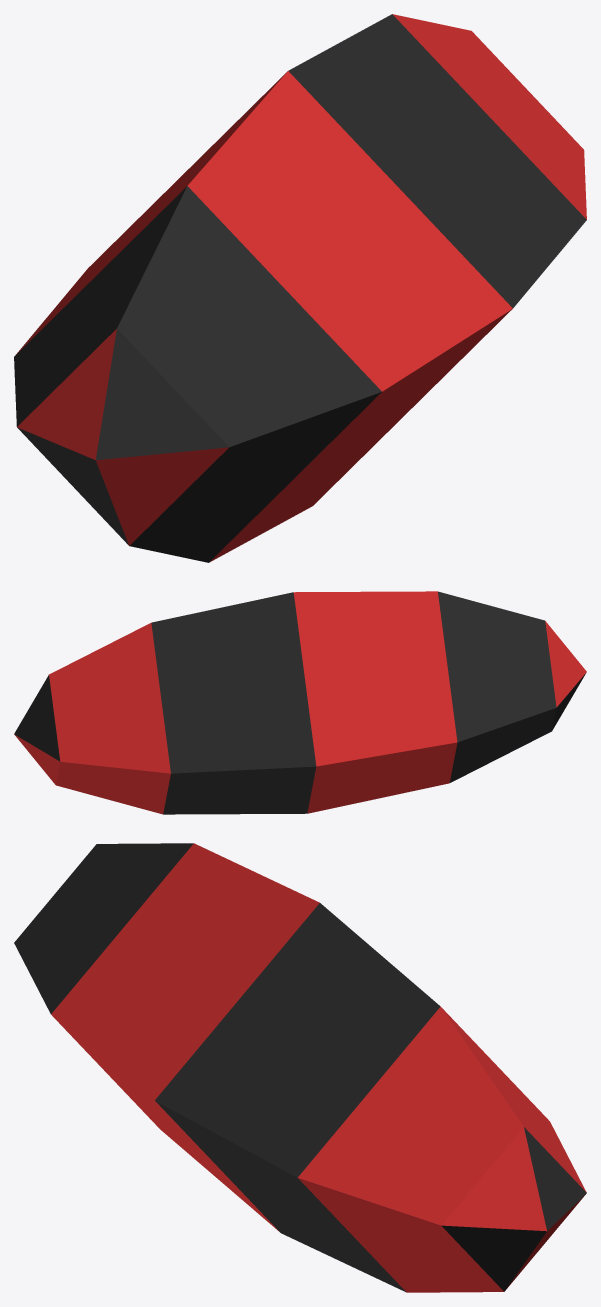
Rendered from Nature_FrogPellet_Red.fbx.
The picture shows the model from 3 angles, top to bottom: view 1: azimuth 30°, elevation 25°; view 2: azimuth 150°, elevation 25°; view 3: azimuth 270°, elevation 25°; orthographic projection. The views are drawn at different scales.
Visible parts, largest first — view 1: pSphere88; view 2: pSphere88; view 3: pSphere88.
Boxes of the visible parts, x1,y1,x2,y2 form: pSphere88: (14, 14, 586, 562); pSphere88: (14, 591, 586, 814); pSphere88: (14, 843, 586, 1292).
Size of the model in its own units: 28.81 by 15.42 by 24.23.
